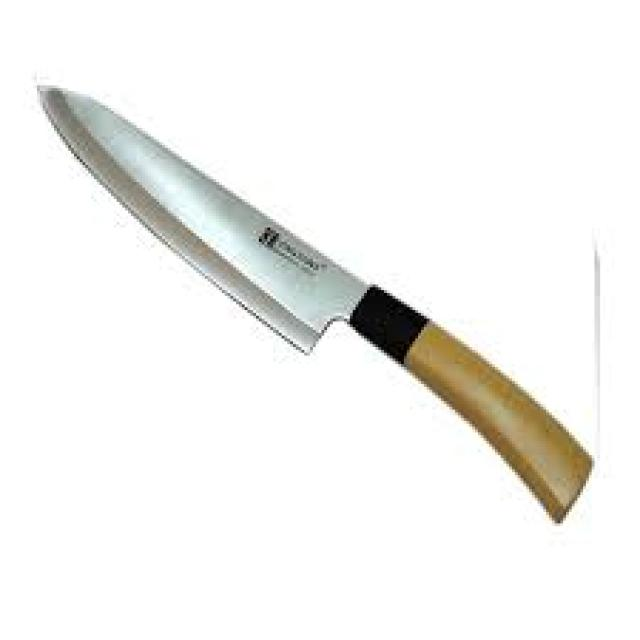Knife: (37, 85, 592, 521)
